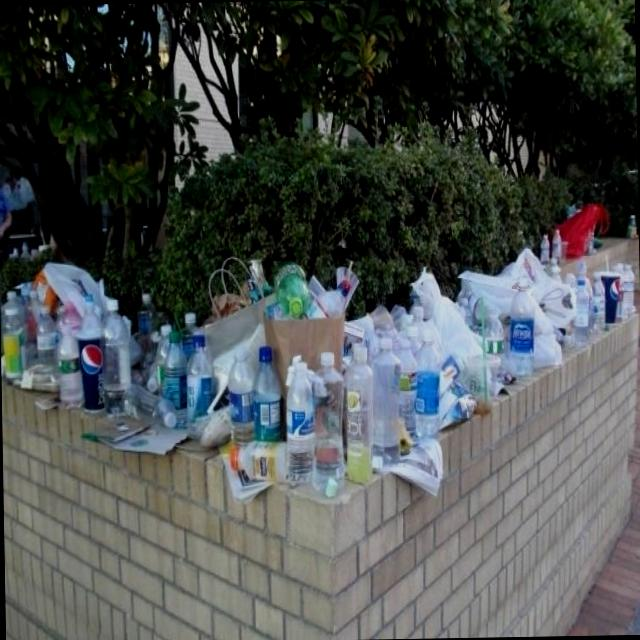garbage: (1, 203, 634, 499)
